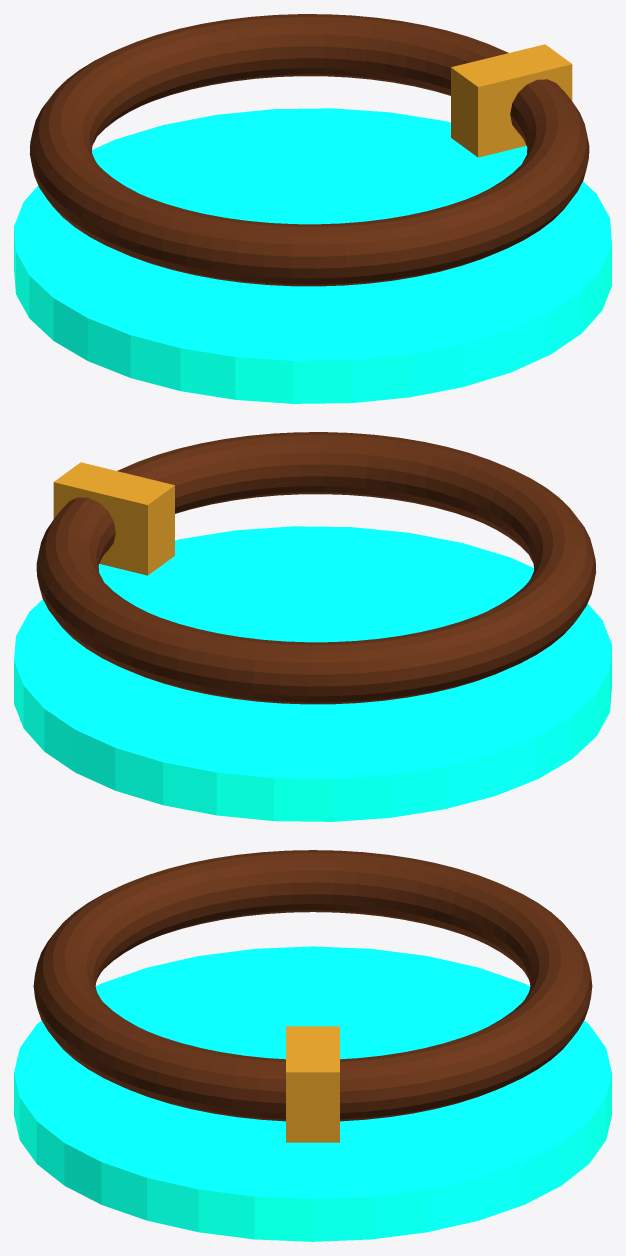
File: fashion_belt.dae
3 renders of one model, top to bottom at view 1: azimuth 30°, elevation 25°; view 2: azimuth 150°, elevation 25°; view 3: azimuth 270°, elevation 25°, orthographic.
Parts seen in each view (by area): view 1: 06_10_Popular_Fashion_Belt_ROOT_base, 06_10_Popular_Fashion_Belt_part_01, 06_10_Popular_Fashion_Belt_part_02; view 2: 06_10_Popular_Fashion_Belt_ROOT_base, 06_10_Popular_Fashion_Belt_part_01, 06_10_Popular_Fashion_Belt_part_02; view 3: 06_10_Popular_Fashion_Belt_ROOT_base, 06_10_Popular_Fashion_Belt_part_01, 06_10_Popular_Fashion_Belt_part_02.
Part boxes in pixels (bbox=[...]): 06_10_Popular_Fashion_Belt_ROOT_base: bbox=[14, 108, 611, 403]; 06_10_Popular_Fashion_Belt_part_01: bbox=[29, 14, 589, 286]; 06_10_Popular_Fashion_Belt_part_02: bbox=[451, 44, 572, 157]; 06_10_Popular_Fashion_Belt_ROOT_base: bbox=[14, 526, 611, 821]; 06_10_Popular_Fashion_Belt_part_01: bbox=[36, 432, 596, 704]; 06_10_Popular_Fashion_Belt_part_02: bbox=[53, 462, 174, 575]; 06_10_Popular_Fashion_Belt_ROOT_base: bbox=[14, 946, 611, 1241]; 06_10_Popular_Fashion_Belt_part_01: bbox=[33, 850, 592, 1121]; 06_10_Popular_Fashion_Belt_part_02: bbox=[286, 1026, 339, 1142].
Bounding box in the file's own units: 0.76 × 0.2286 × 0.76.
